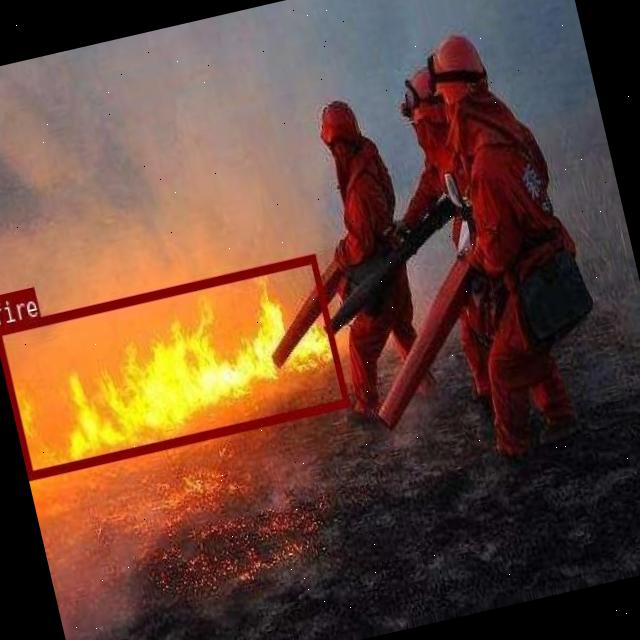fire: (0, 252, 348, 477)
